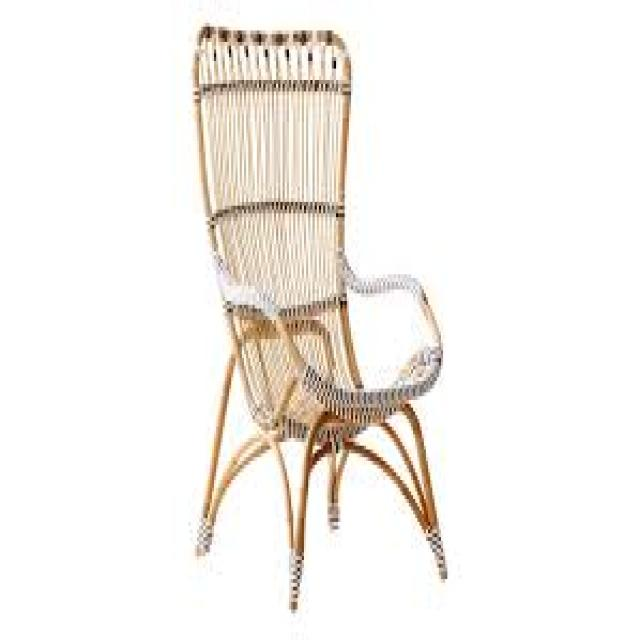chair: (193, 22, 448, 616)
